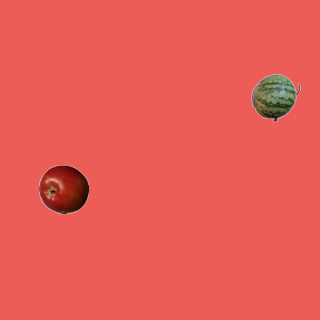Apple Braeburn: (38, 164, 88, 214)
Watermelon: (250, 72, 300, 122)
